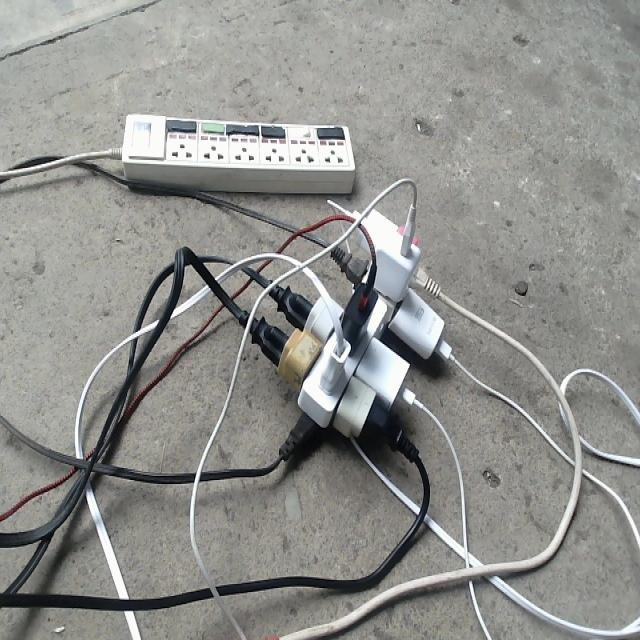-: (240, 196, 451, 464)
